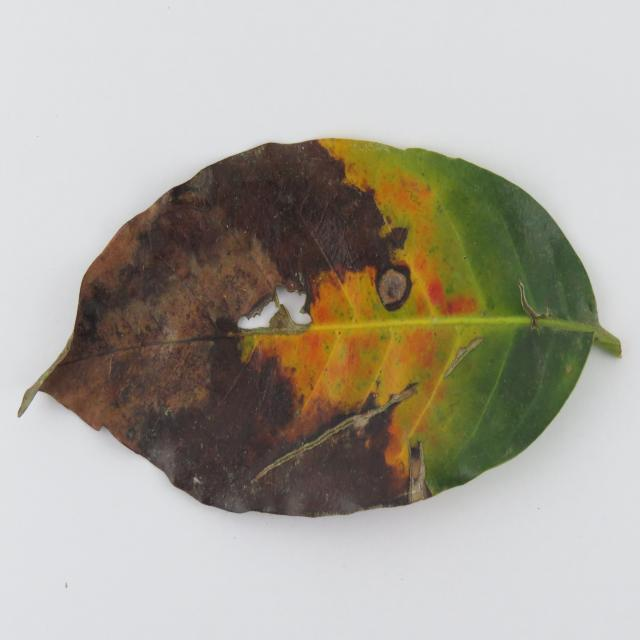DeficienciaNutricional-Fosforo: (19, 140, 621, 517)
